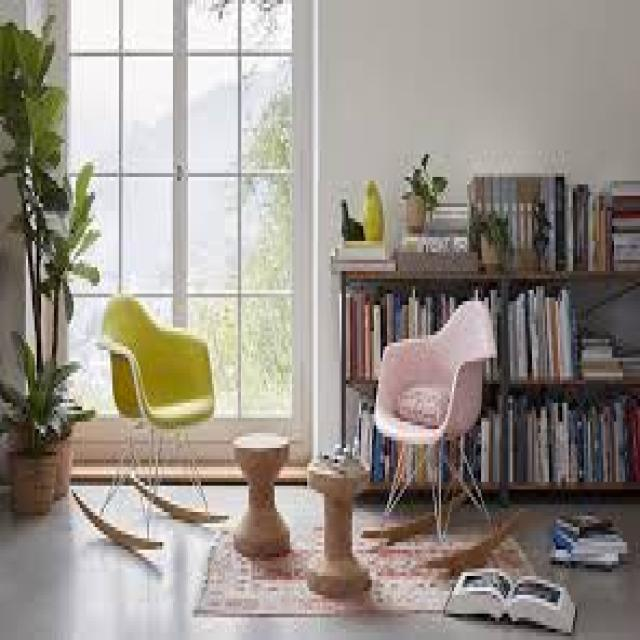chair: (346, 249, 539, 626), (51, 269, 225, 586)
